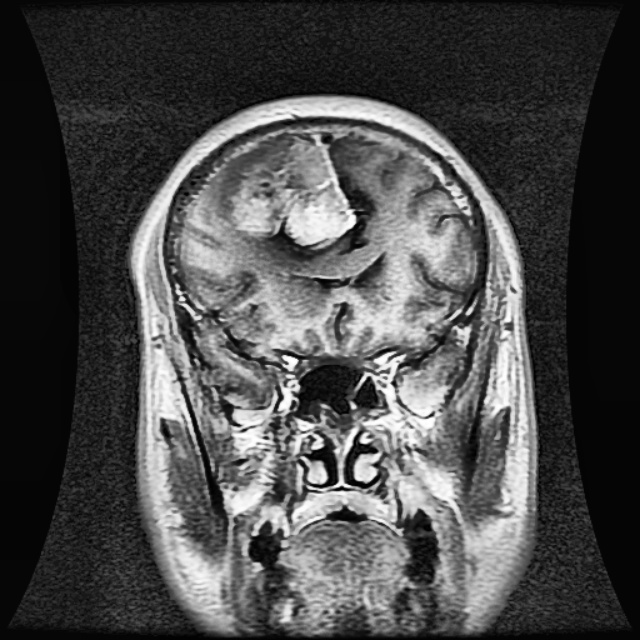Glioma: (229, 137, 357, 244)
